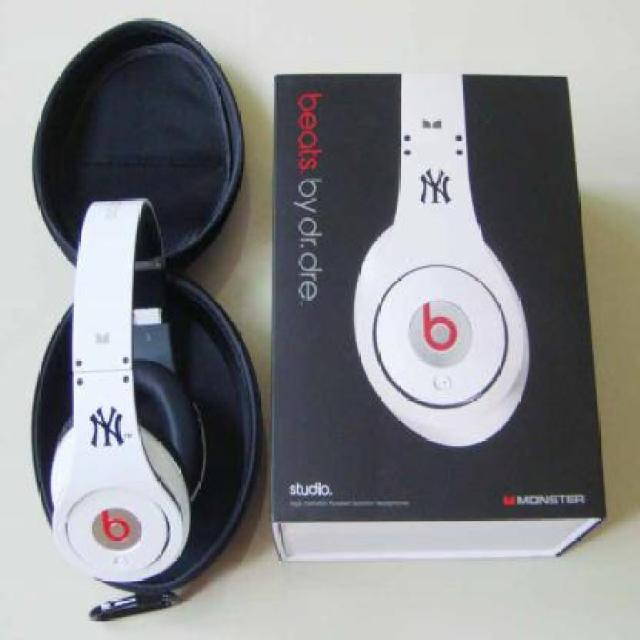earphone: (51, 188, 239, 634)
